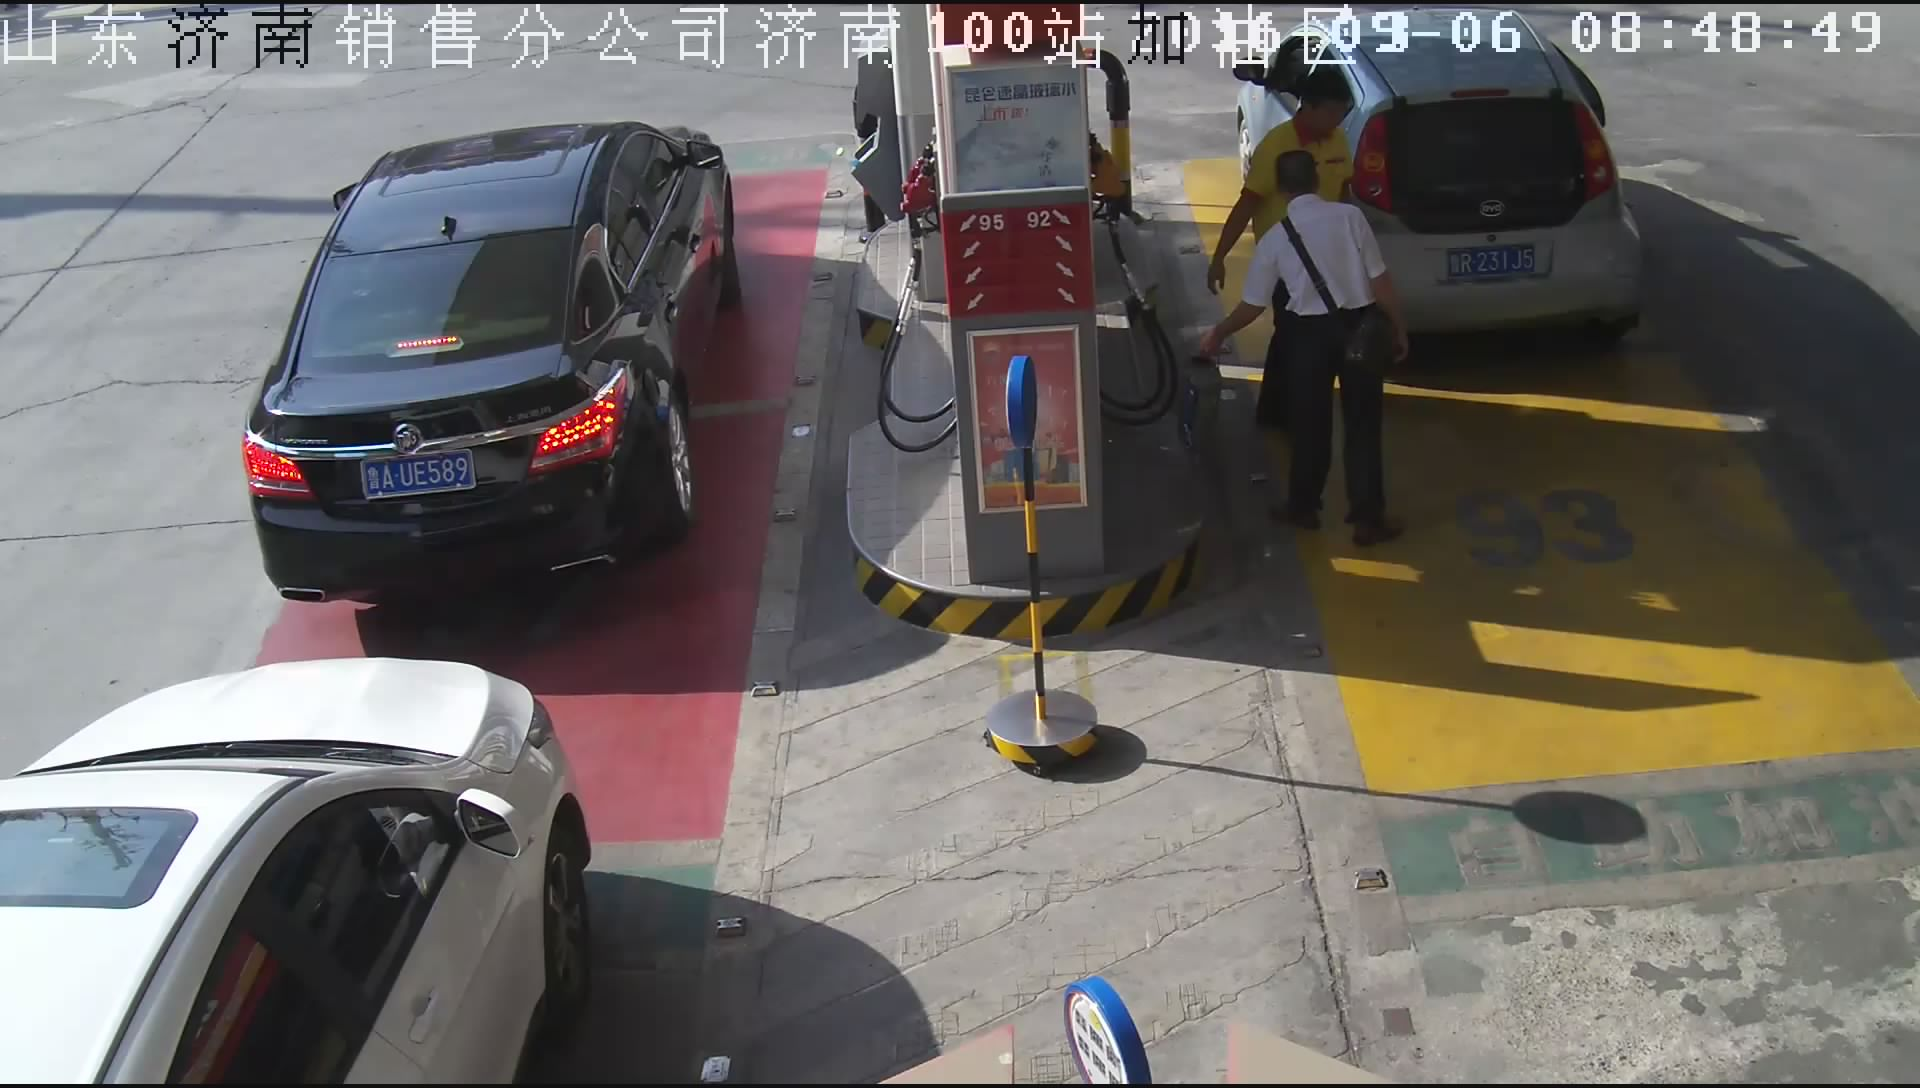blue: (360, 452, 477, 500), (1445, 243, 1538, 282)
